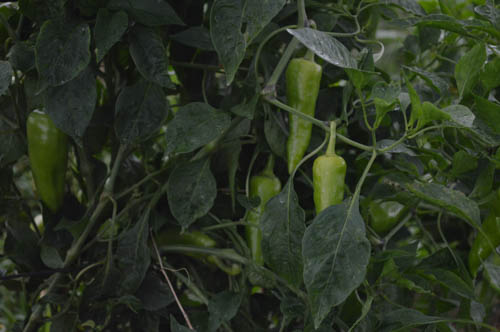ChiliPepper: (285, 56, 318, 180), (27, 113, 65, 208), (247, 177, 284, 266), (313, 156, 345, 213), (160, 224, 208, 258), (368, 196, 408, 234)
